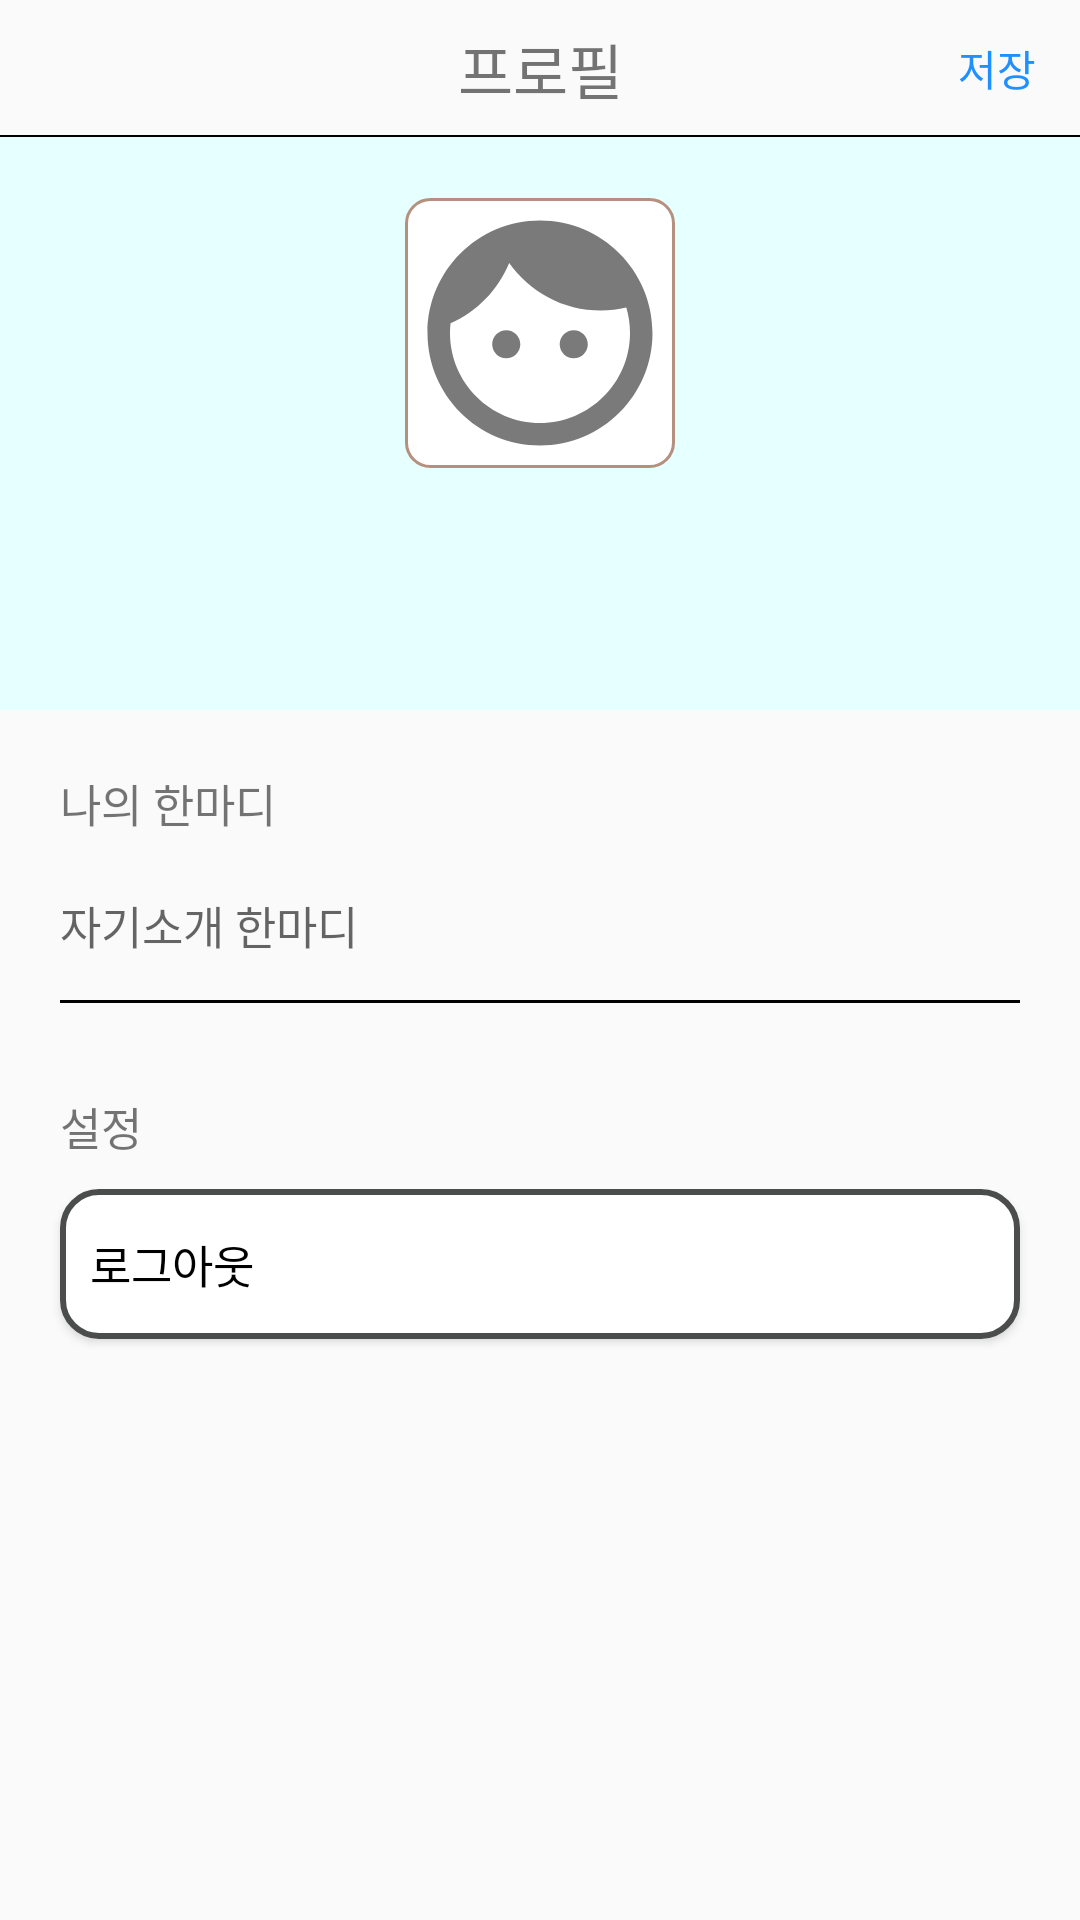

Icon click points for this 1080*1920 phone screenshot, format (x=x, y=y):
profile: (x=540, y=333)
